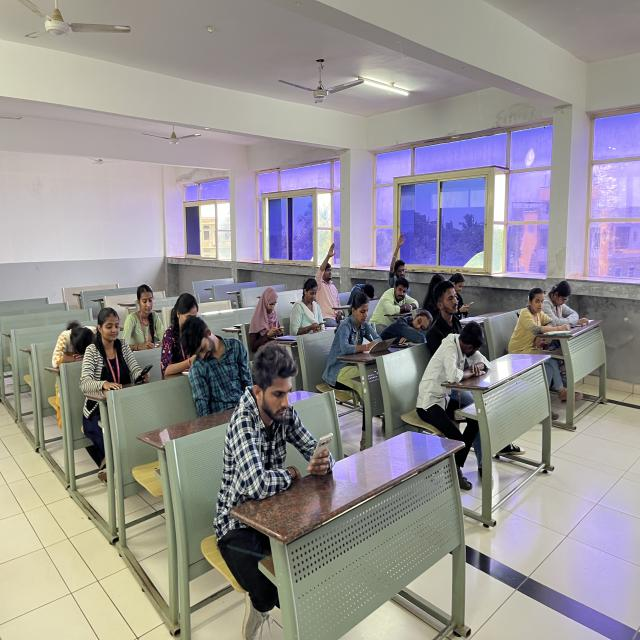Hand Rising: (314, 241, 344, 312), (382, 229, 411, 288)
Reading: (119, 280, 173, 362)
Sleeping: (416, 319, 493, 409), (48, 318, 104, 372), (373, 276, 420, 322)
Using Phone: (215, 329, 352, 526), (71, 302, 158, 419), (288, 277, 329, 338), (247, 284, 285, 337)
Writing: (325, 290, 388, 371)
